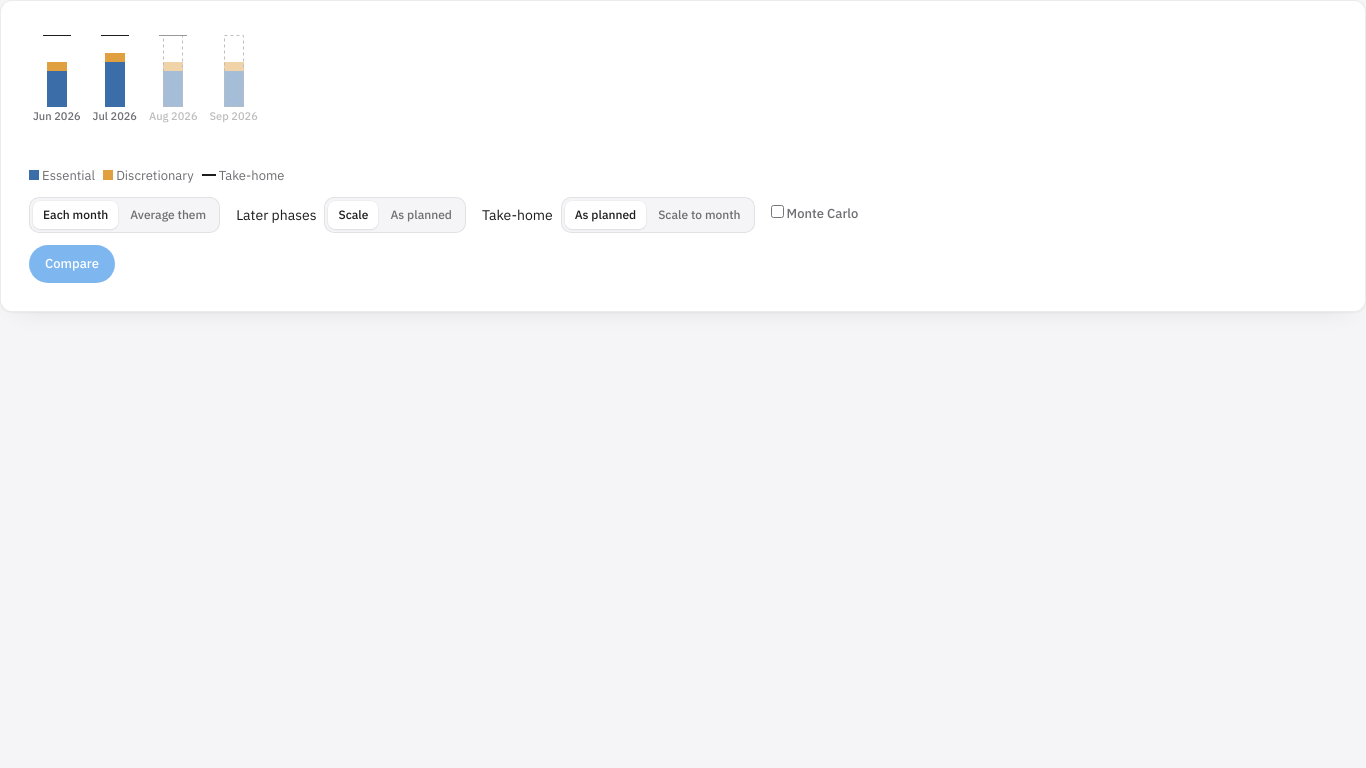
Scenario: compares each selected month and shows outcomes and category differences
Check: the element named "Months" is shown, box [29,29,262,130]
Click the button "Jun 2026" at (57, 80), box [29,29,85,130]
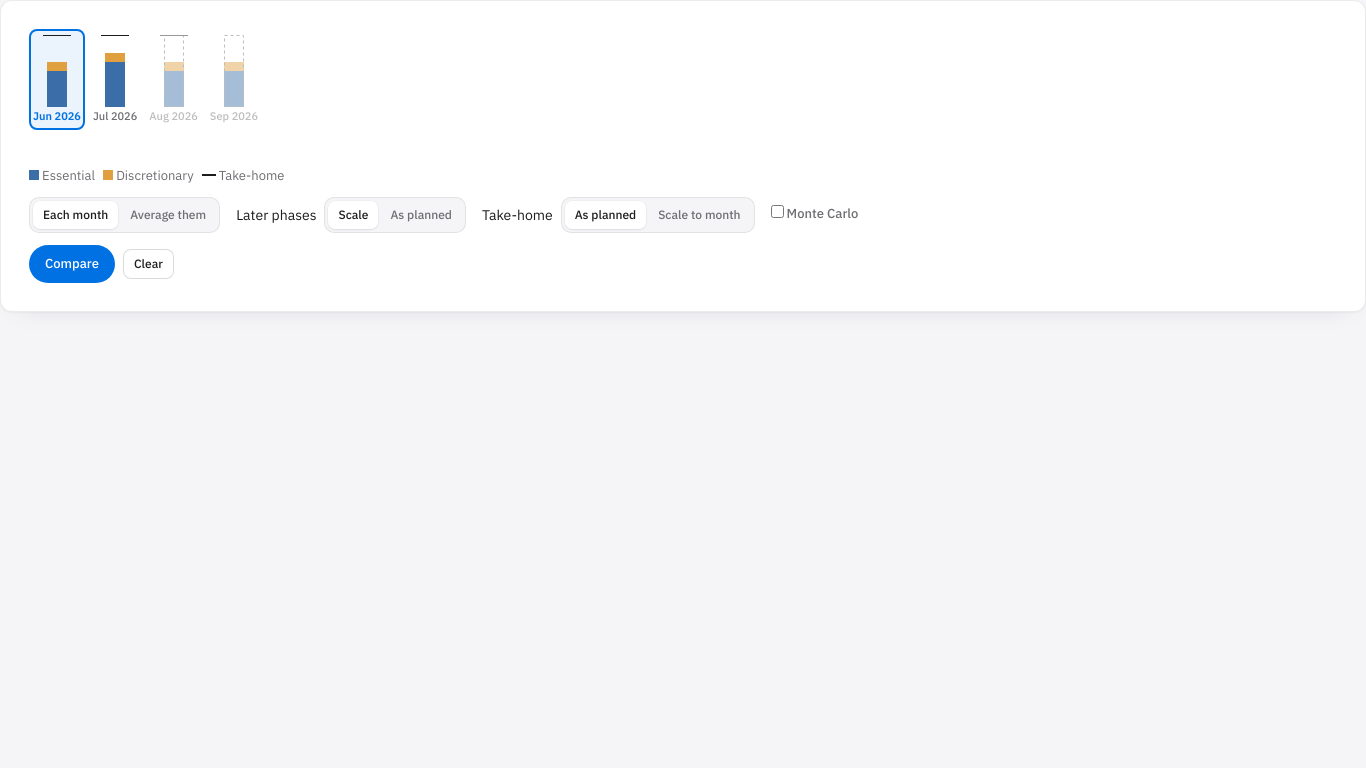
Click the button "Jul 2026" at (115, 80), box [89,29,141,130]
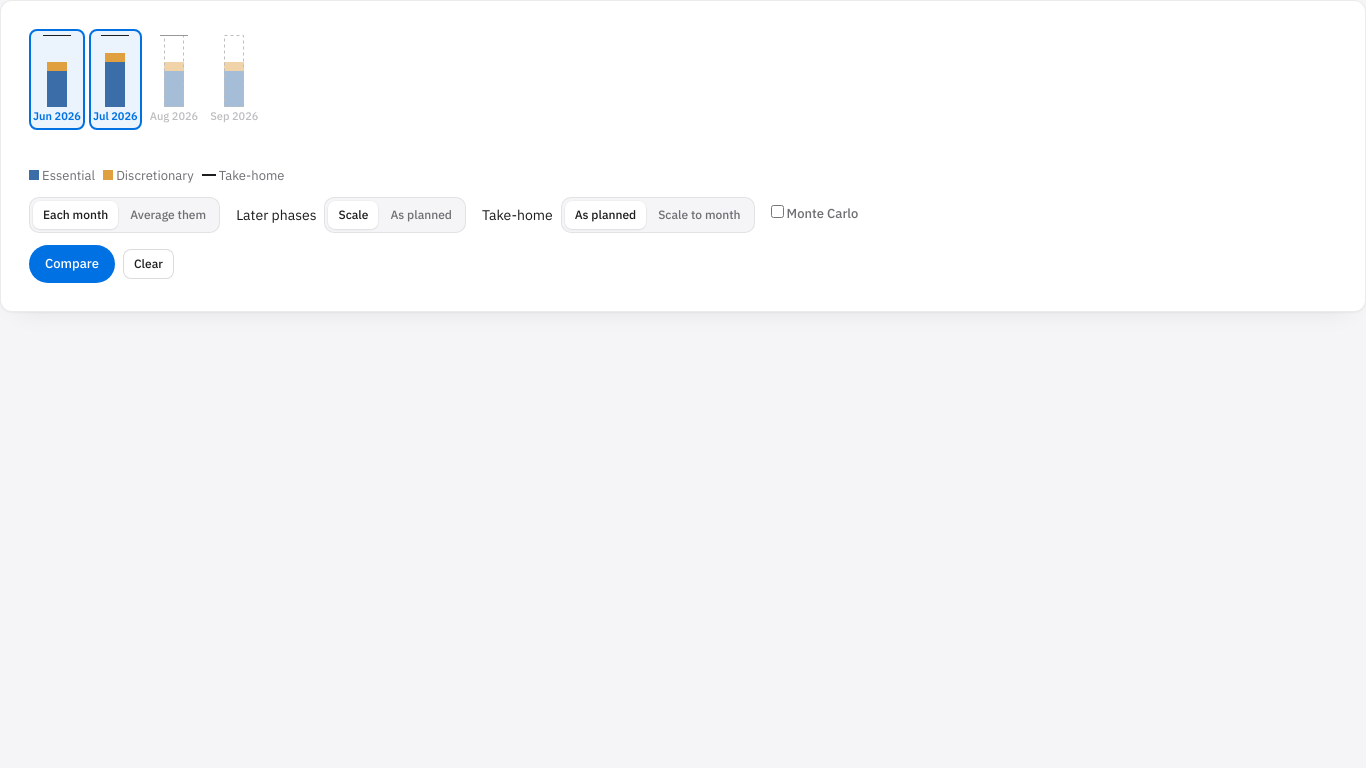
Click the button "Compare" at (72, 264), box [29,245,115,283]
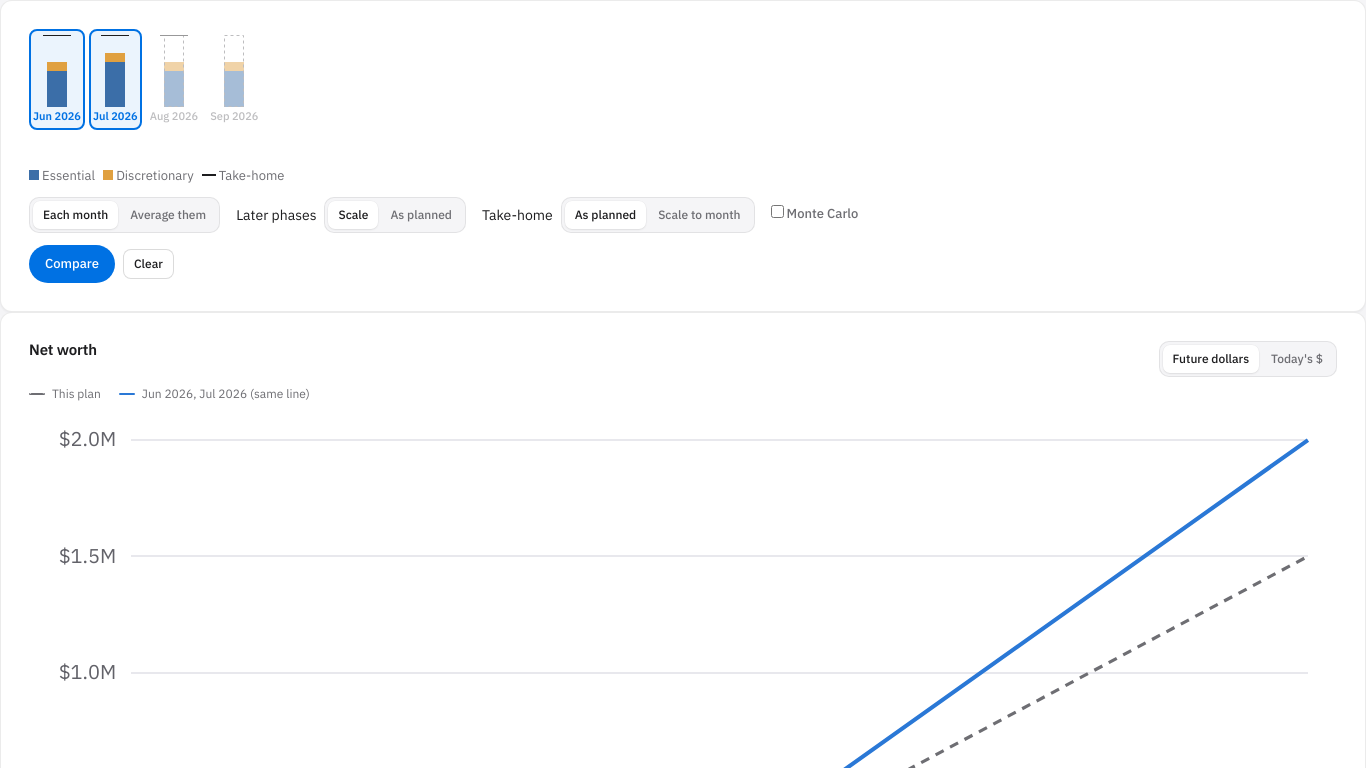
Click the button "Today's $" at (1297, 359), box [1261,345,1333,373]
(page scrolled)
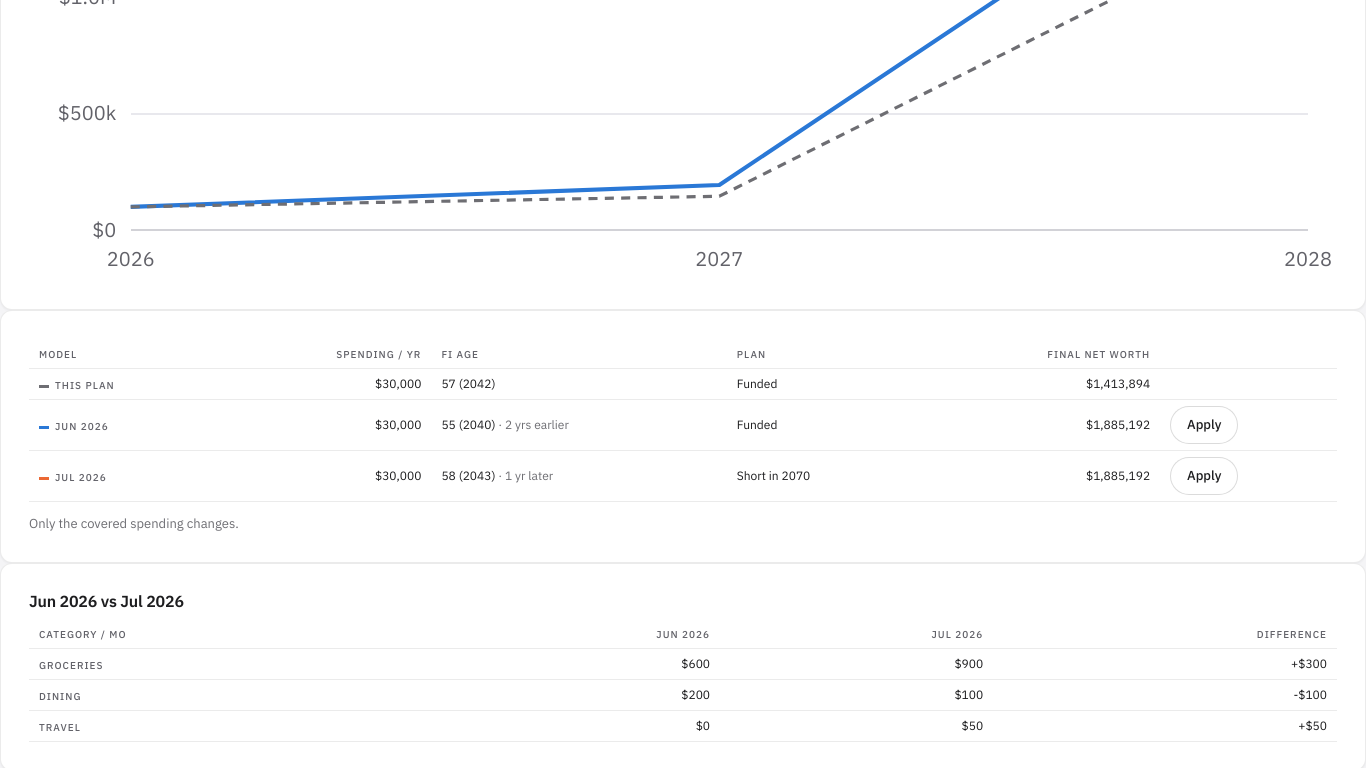
Check: the row "This plan $30,000 57 (2042) Funded $1,413,894" is shown, box [29,369,1337,400]
